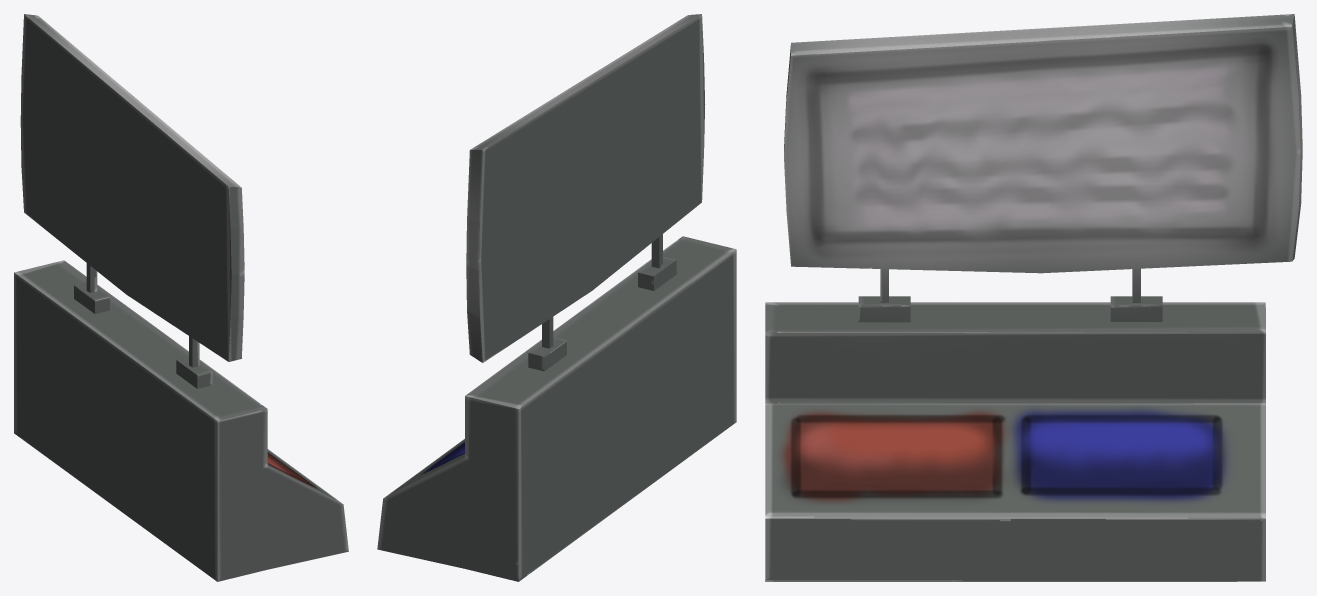
3 renders of one model, left to right at view 1: azimuth 30°, elevation 25°; view 2: azimuth 150°, elevation 25°; view 3: azimuth 270°, elevation 25°, orthographic. The views are drawn at different scales.
Visible parts, largest first — view 1: PC; view 2: PC; view 3: PC.
Boxes of the visible parts, x1=… form: PC: x1=14, y1=14, x2=348, y2=581; PC: x1=377, y1=14, x2=736, y2=581; PC: x1=765, y1=14, x2=1302, y2=581.
Bounding box in the file's own units: 69.77 × 206 × 200.
